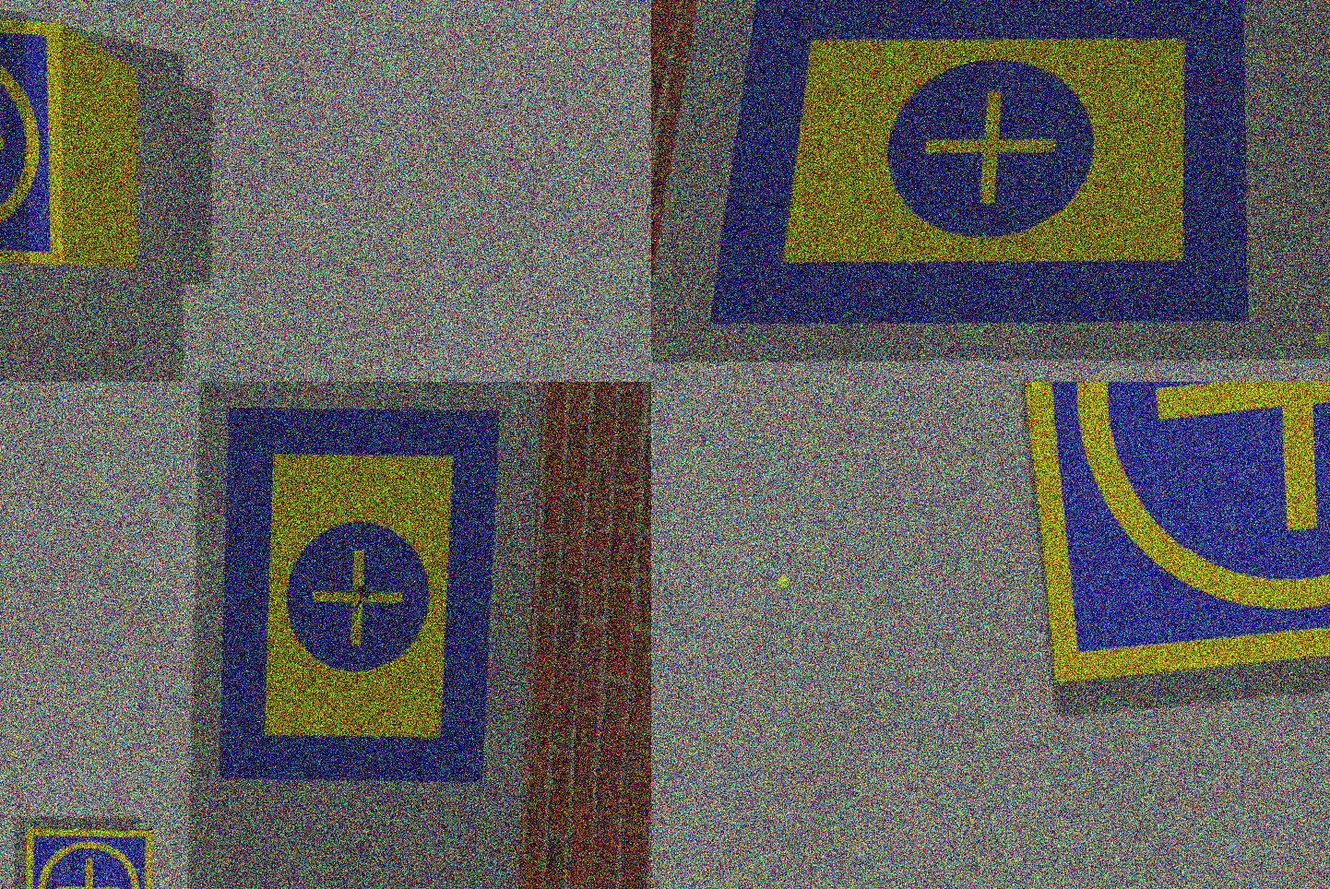large_base: (707, 1, 1261, 339), (219, 400, 501, 790)
small_base: (997, 382, 1330, 705), (1, 14, 84, 269), (20, 824, 159, 889)
